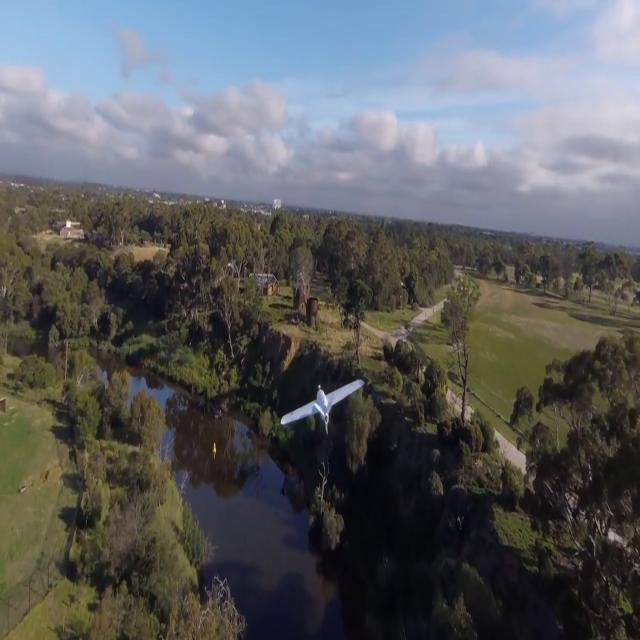iha: (311, 375, 332, 436)
